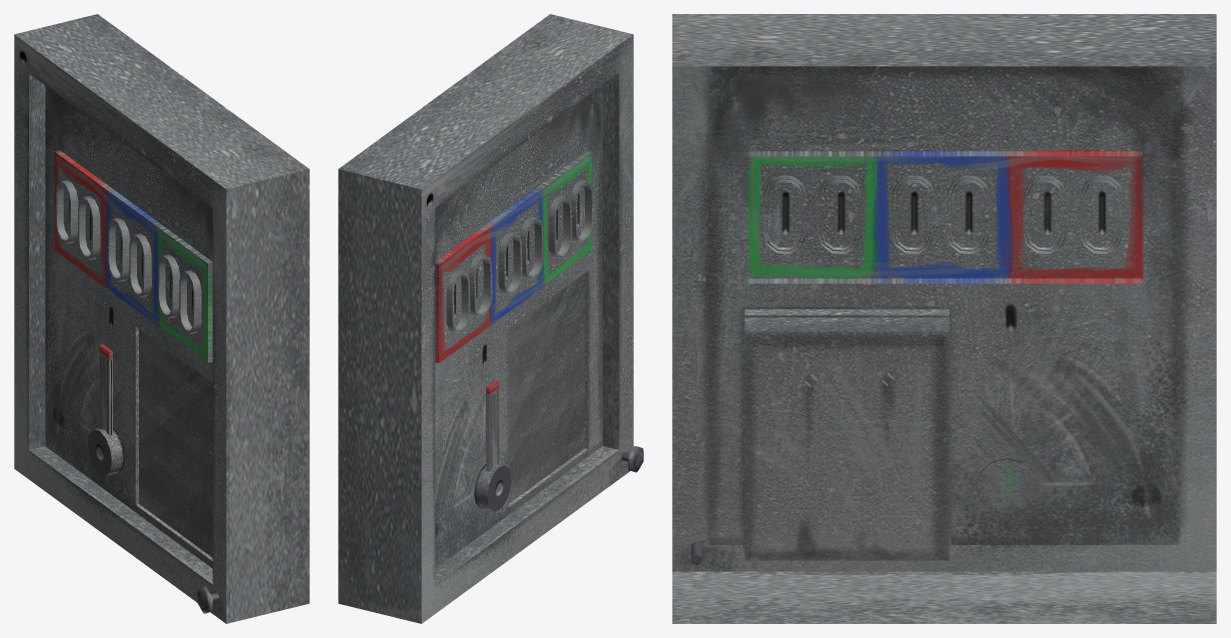
File: electricPanel.fbx
3 renders of one model, left to right at view 1: azimuth 30°, elevation 25°; view 2: azimuth 150°, elevation 25°; view 3: azimuth 270°, elevation 25°, orthographic. The views are drawn at different scales.
Visible parts, largest first — view 1: chassis, portiere; view 2: chassis, portiere; view 3: chassis, portiere.
Boxes of the visible parts, left/top/right/bottom form: chassis: left=14, top=14, right=309, bottom=623; portiere: left=139, top=329, right=212, bottom=557; chassis: left=338, top=14, right=643, bottom=623; portiere: left=508, top=273, right=584, bottom=503; chassis: left=672, top=14, right=1216, bottom=623; portiere: left=743, top=307, right=951, bottom=547.
Size of the model in its own units: 19.86 by 82.25 by 72.72.
